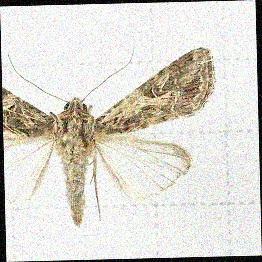Spodoptera litura: (4, 43, 218, 228)
